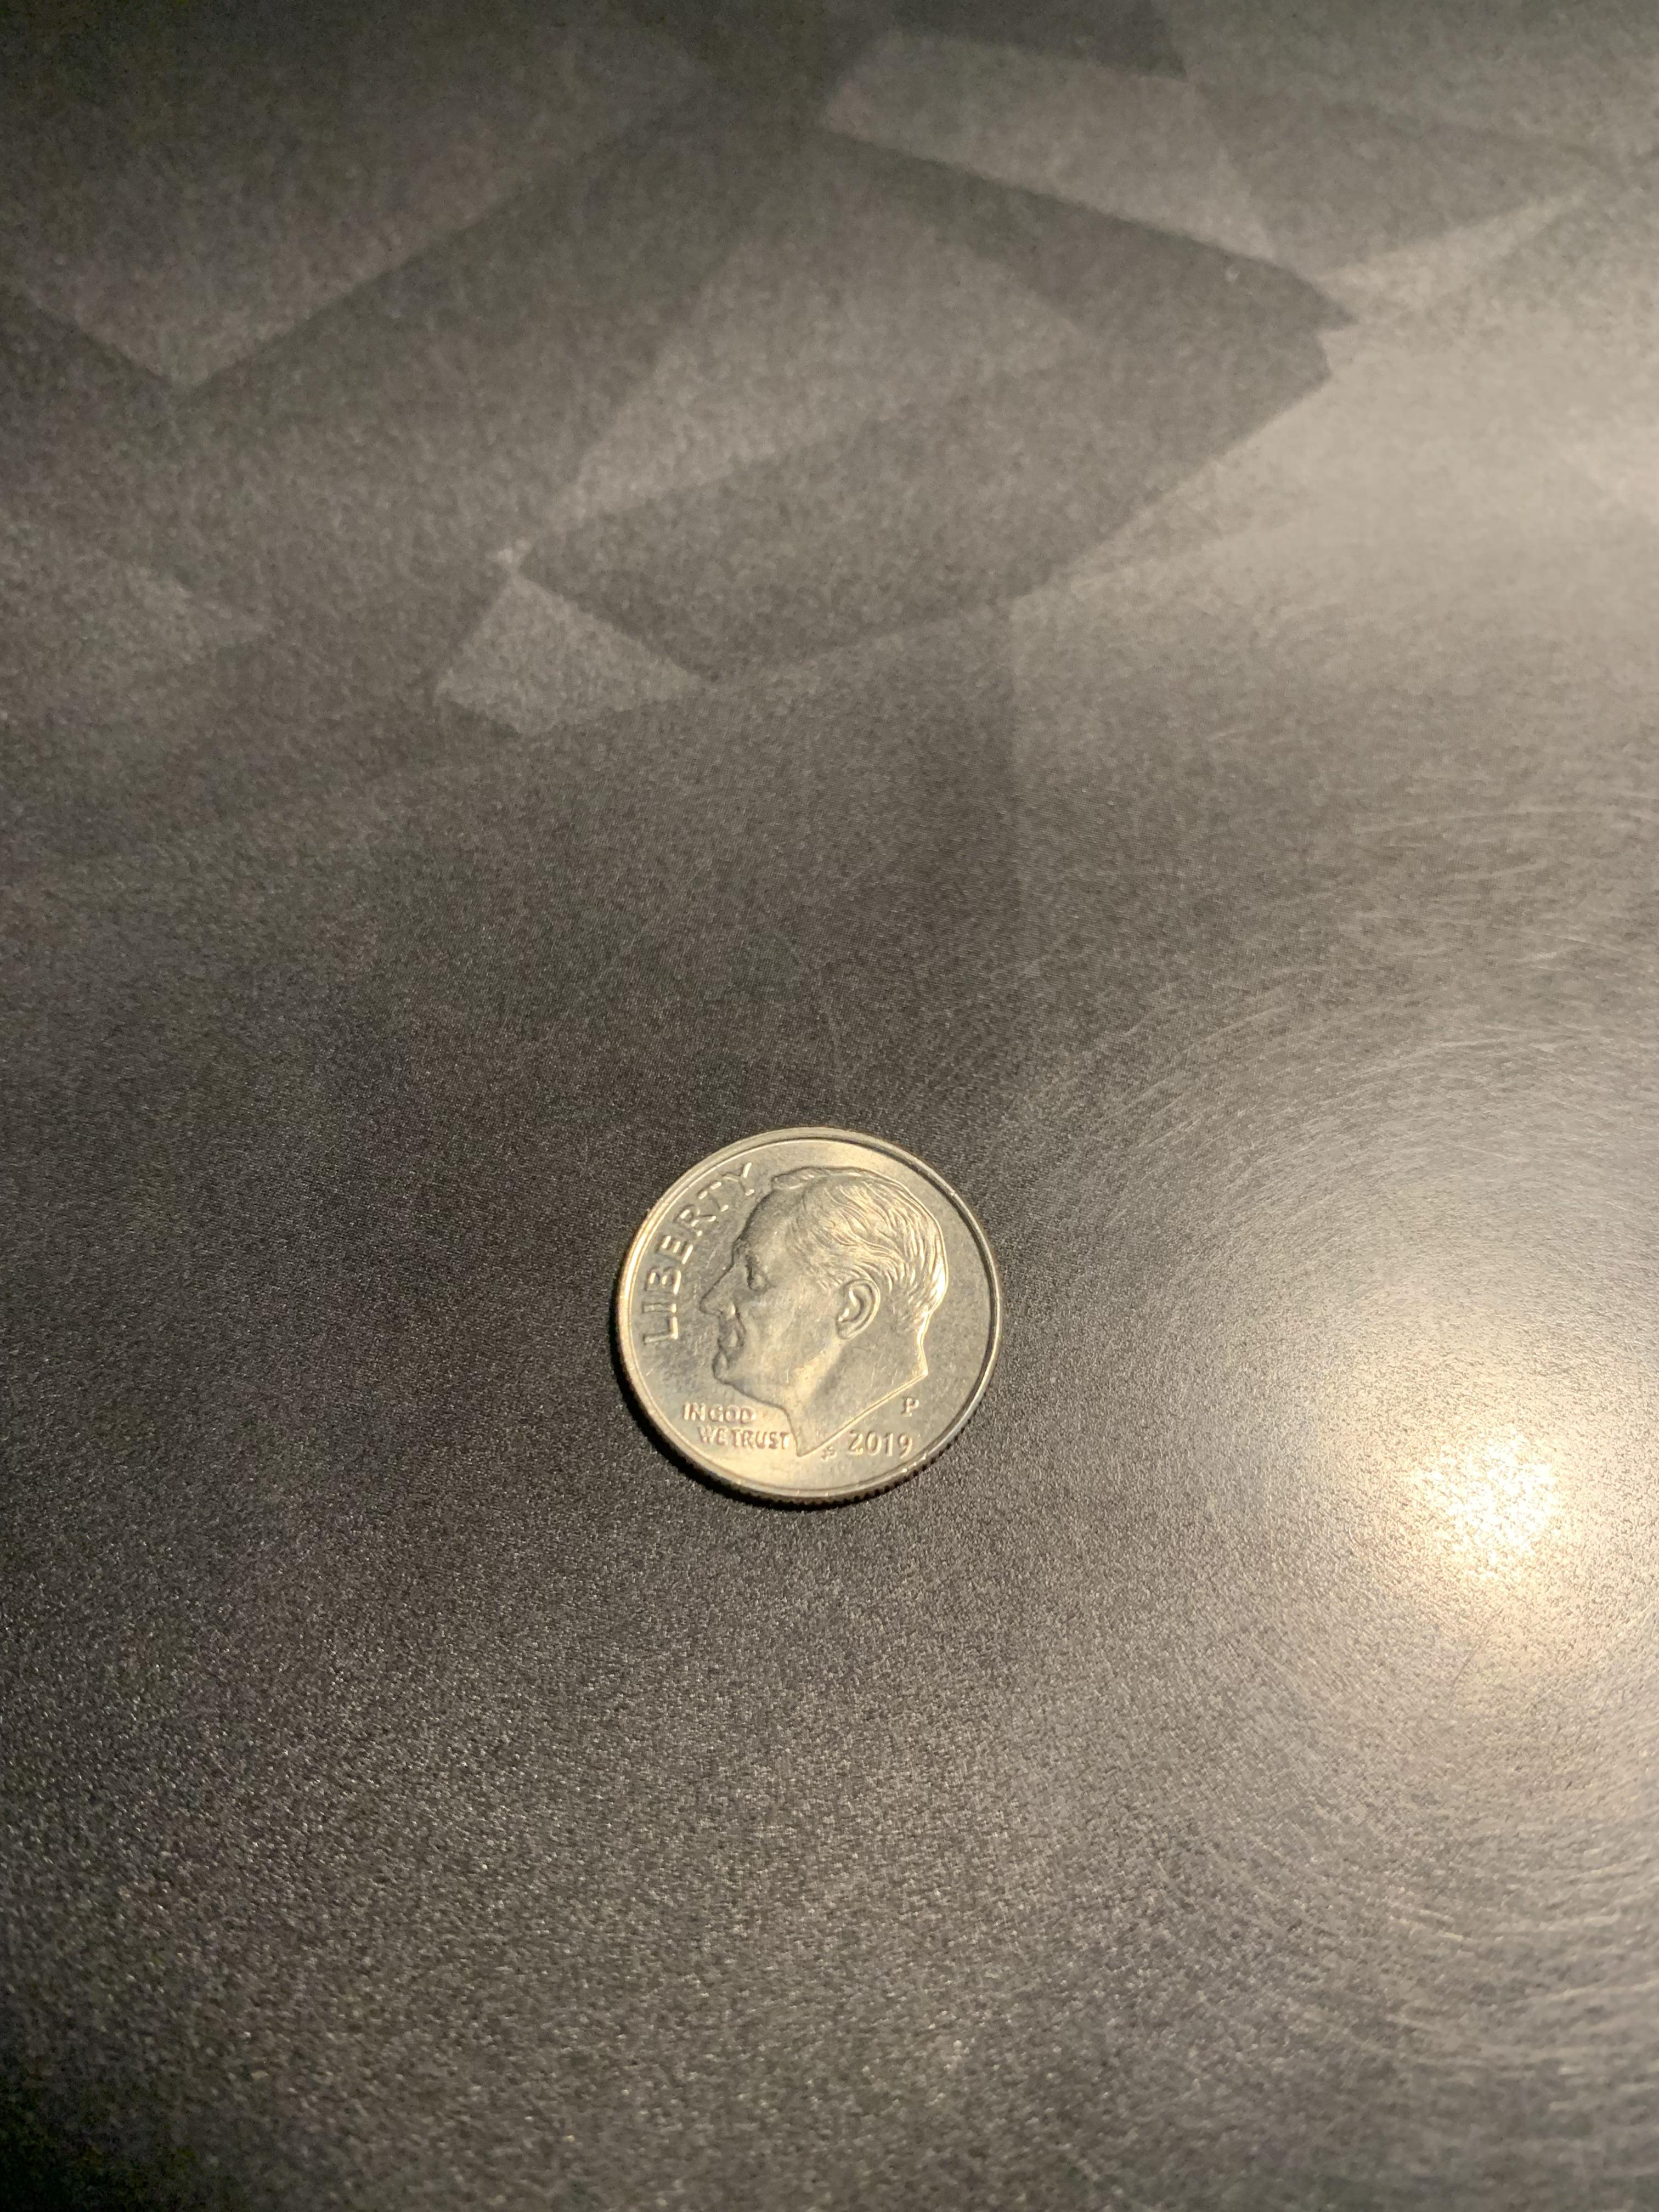Dime: (589, 1115, 1018, 1517)
